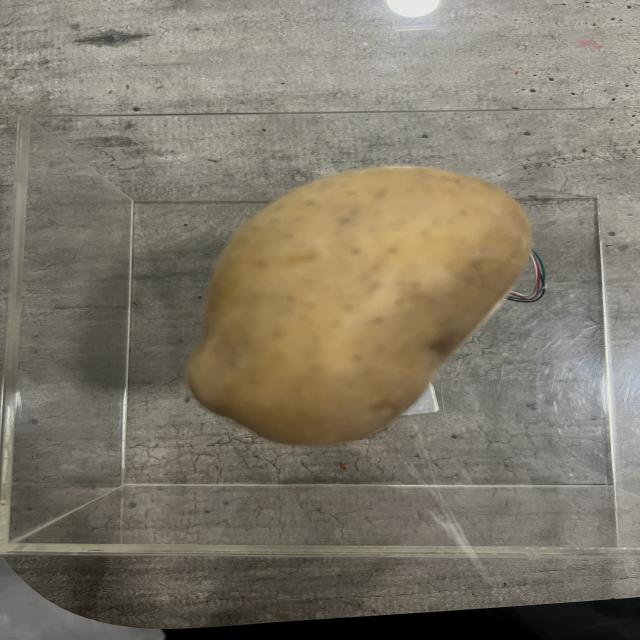potato: (184, 170, 534, 434)
